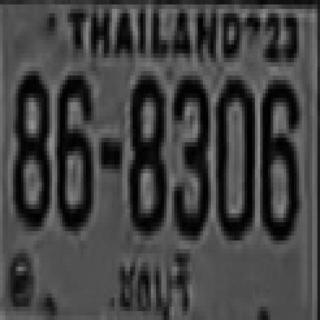N00: (214, 76, 251, 236)
N03: (172, 71, 208, 235)
N06: (259, 76, 298, 236), (54, 71, 91, 227)
N08: (128, 71, 164, 231), (10, 67, 47, 222)
P13: (110, 249, 195, 319)
